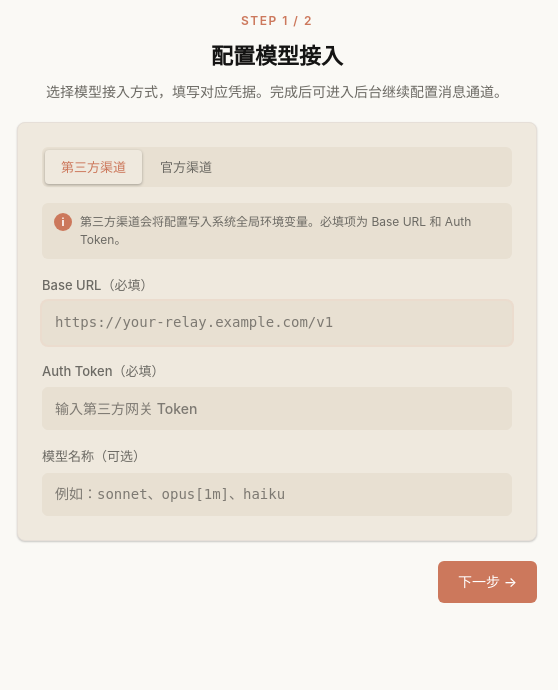
Test: Setup Page › Step 1: Model Configuration › validates required fields in third-party mode
What coordinates should you click on to do the following:
click the button "下一步 →"
I would click on:
 (487, 582)
Its box is [438, 561, 537, 603].
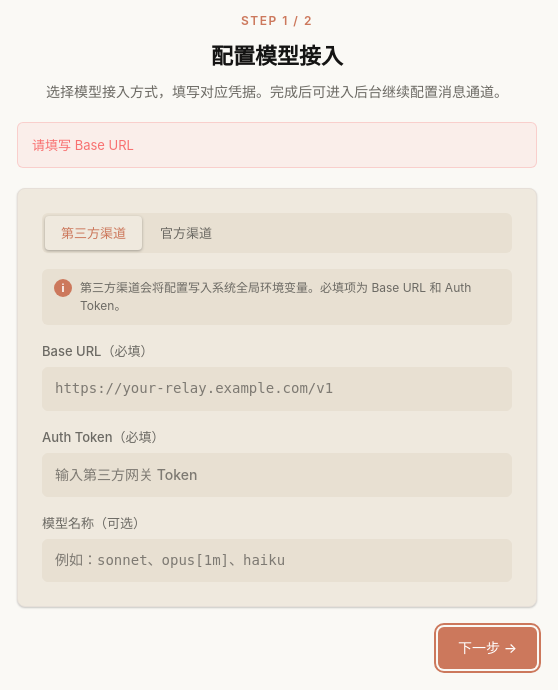
Check: the text "请填写 Base URL" is shown, box [17, 122, 537, 168]
